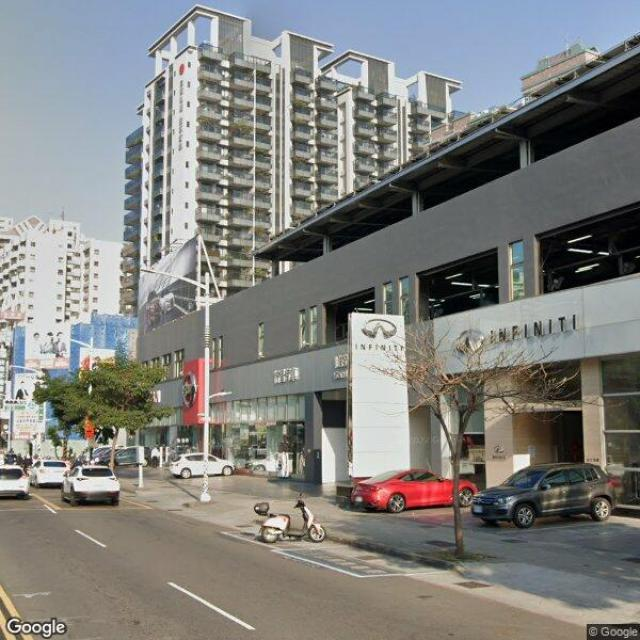Legalparking: (352, 456, 618, 538), (32, 454, 118, 506), (169, 451, 231, 480)
